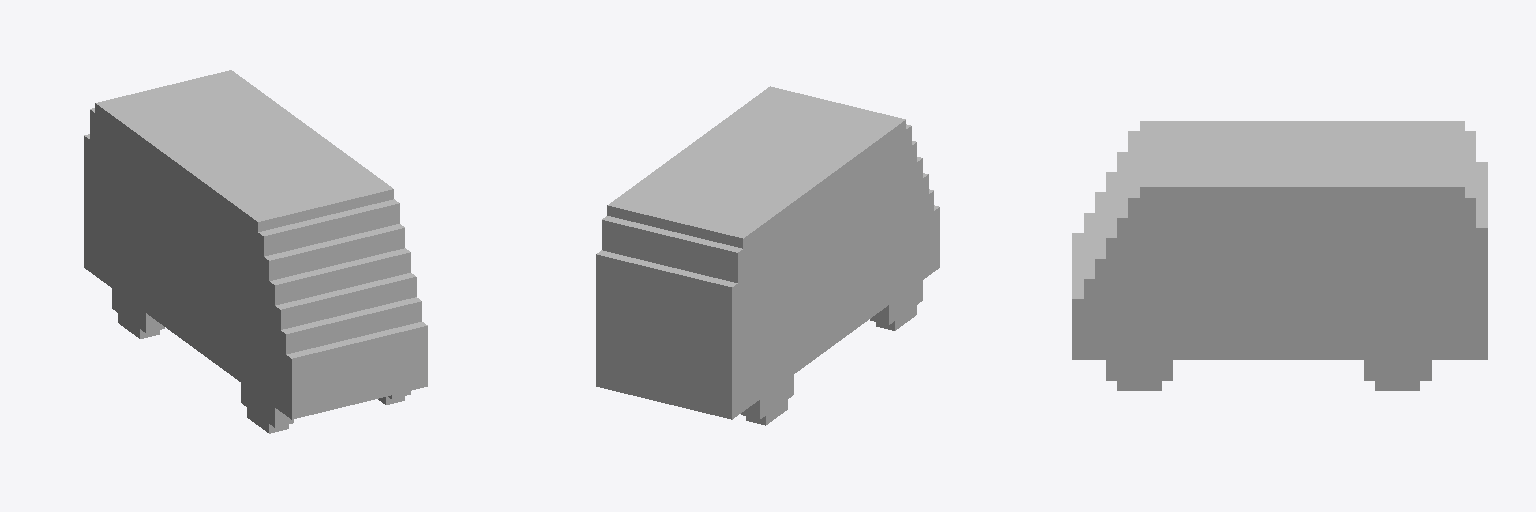
The model's file is van style2 white-red.obj.
3 renders of one model, left to right at view 1: azimuth 30°, elevation 25°; view 2: azimuth 150°, elevation 25°; view 3: azimuth 270°, elevation 25°, orthographic.
Parts seen in each view (by area): view 1: object 1; view 2: object 1; view 3: object 1.
Part boxes in pixels (x1,y1,x2,y2): object 1: (84, 70, 427, 433); object 1: (596, 86, 939, 425); object 1: (1072, 121, 1487, 390).
Size of the model in its own units: 1.4 by 2 by 3.7.